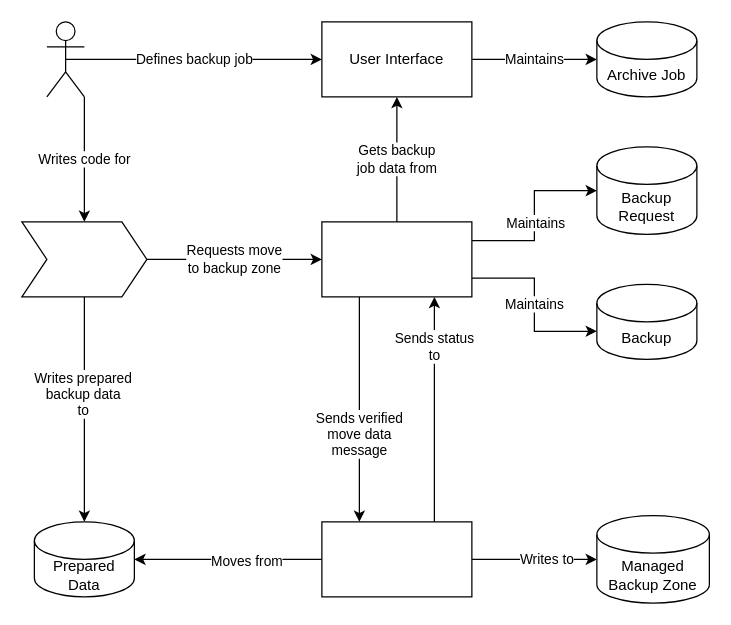
The diagram is 731 pixels wide and 625 high, and some of its shapes have lost their labels. The centre of each missing label's shape, as x and y in pixels:
"Backup Controller" belongs at (396,259).
"Backup Job" belongs at (84,259).
"Backup Zone Interface" belongs at (396,559).
